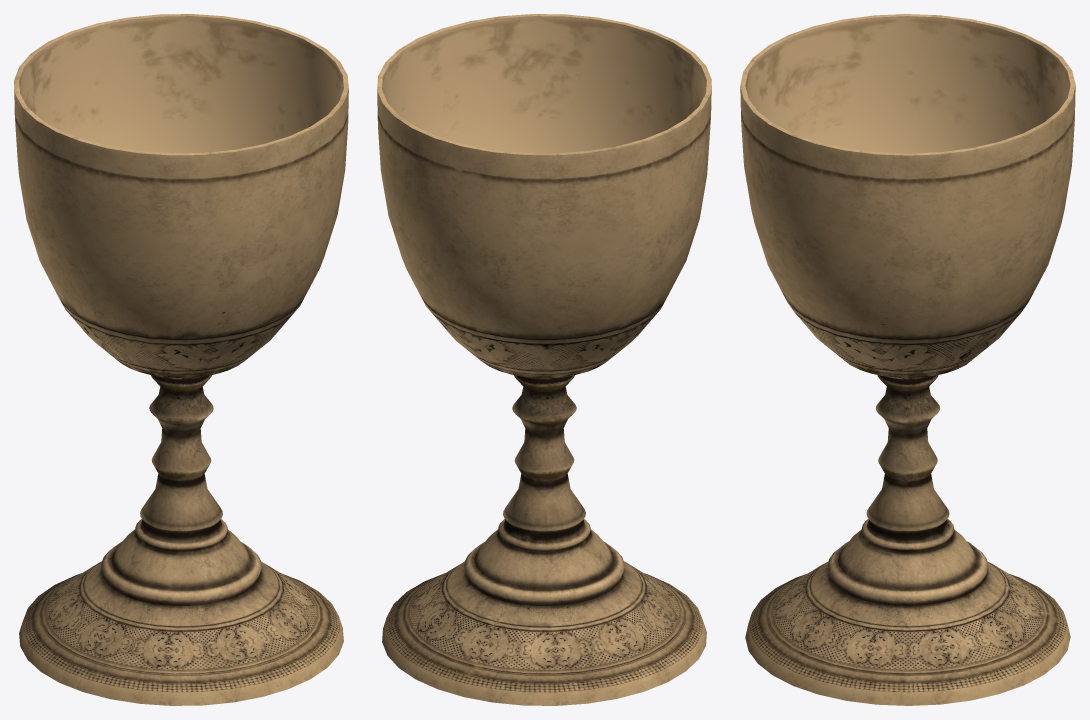
File: pokal.glb
3 renders of one model, left to right at view 1: azimuth 30°, elevation 25°; view 2: azimuth 150°, elevation 25°; view 3: azimuth 270°, elevation 25°, orthographic.
Visible parts, largest first — view 1: brass_goblet_01; view 2: brass_goblet_01; view 3: brass_goblet_01.
Part boxes in pixels (<box>): brass_goblet_01: <box>14,14,348,705</box>; brass_goblet_01: <box>377,14,711,705</box>; brass_goblet_01: <box>740,14,1075,705</box>.
Size of the model in its own units: 0.5502 by 1 by 0.5502.
Materials: 1 (1 with a texture image).
